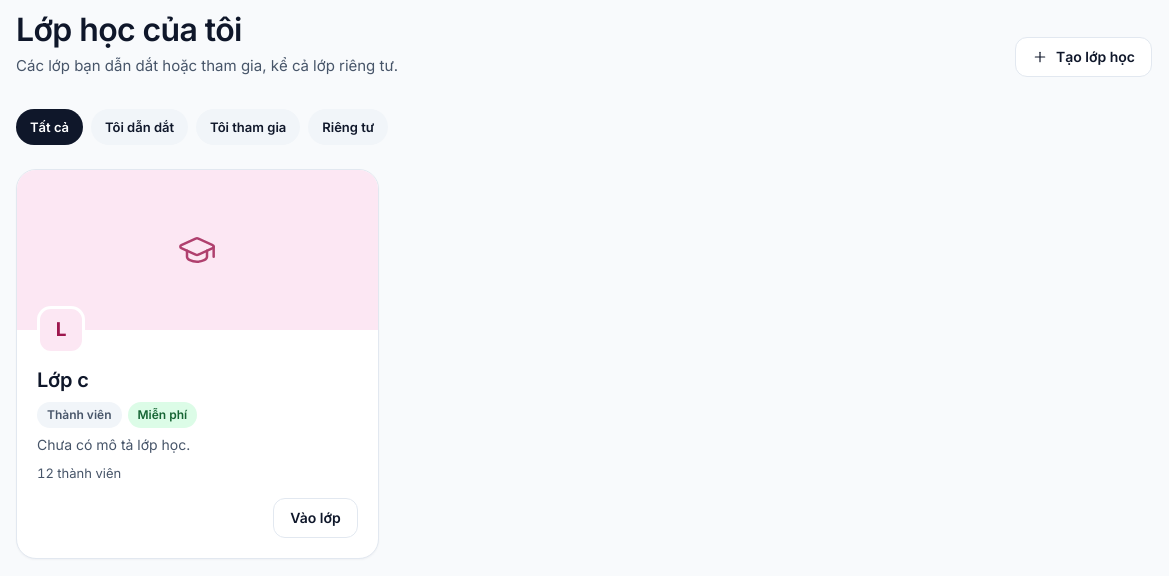
Test: MyClassesPage › shows the filter empty state with a way back
Expected: the heading "Lớp c" is shown, [37,368,89,392]
Click the button "Tôi dẫn dắt". click: x=140, y=127
box: [91,109,188,145]
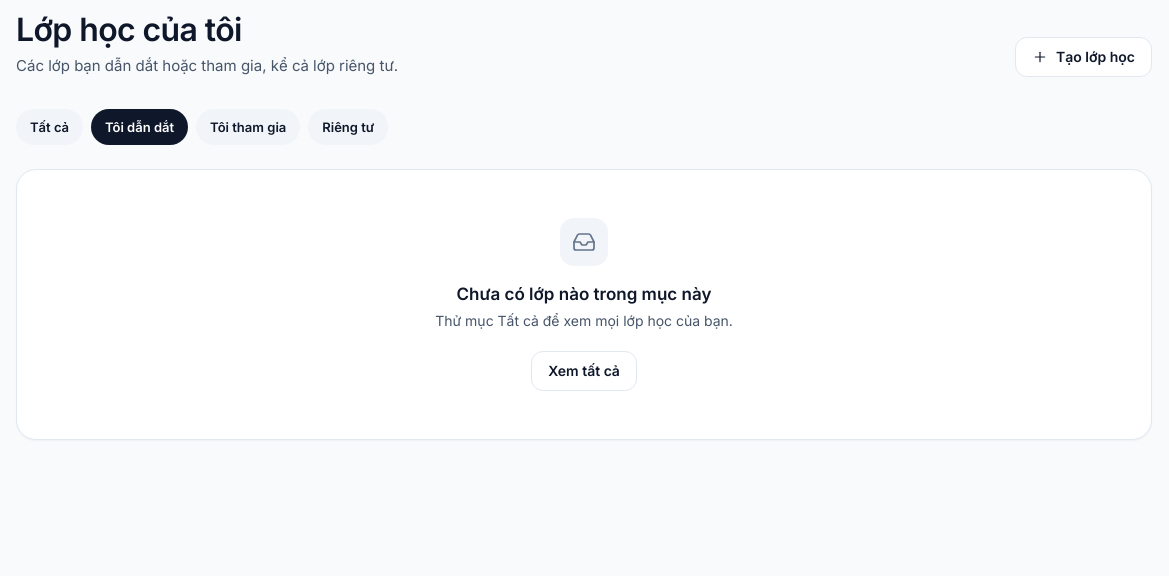
Result: the heading "Chưa có lớp nào trong mục này" is shown at [457,282,711,307]
Click the button "Xem tất cả". click: x=584, y=371
box: [531,351,637,391]
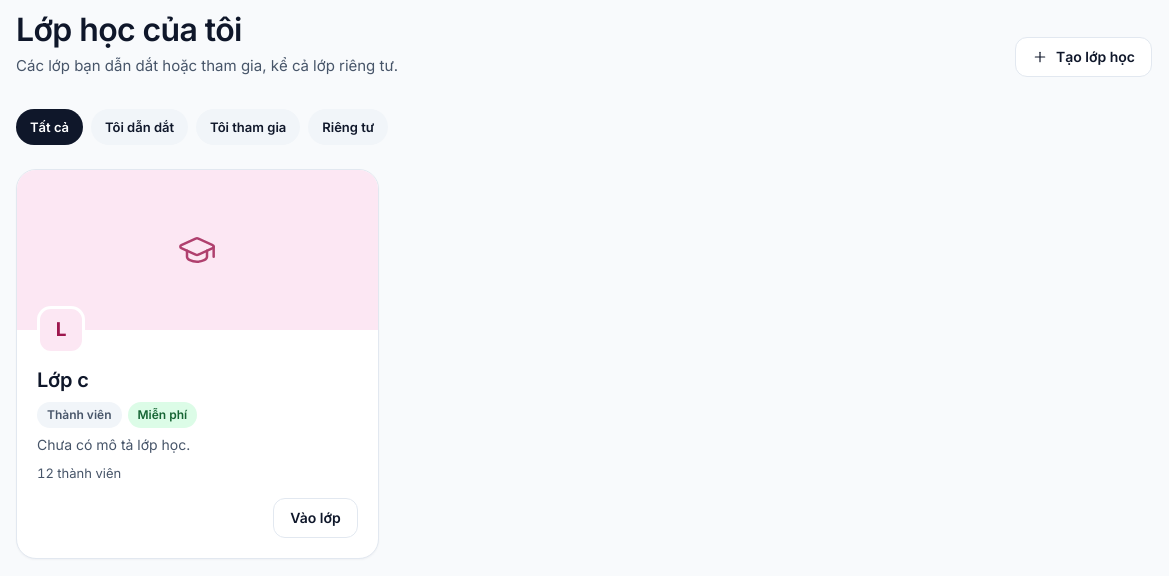
Result: the heading "Lớp c" is shown at [37,368,89,392]
